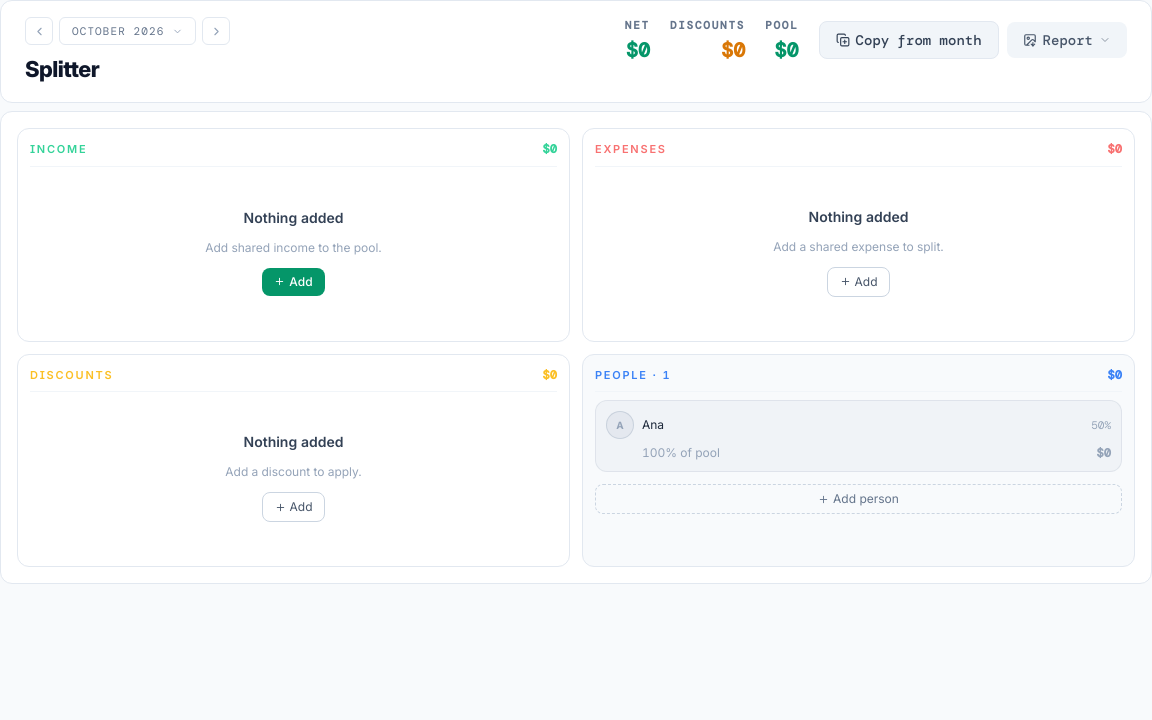
Test case: Splitter month copy › previews a copy from the previous month into the viewed month
Click the button "Copy from month".
click(909, 40)  # box [819,21,999,59]
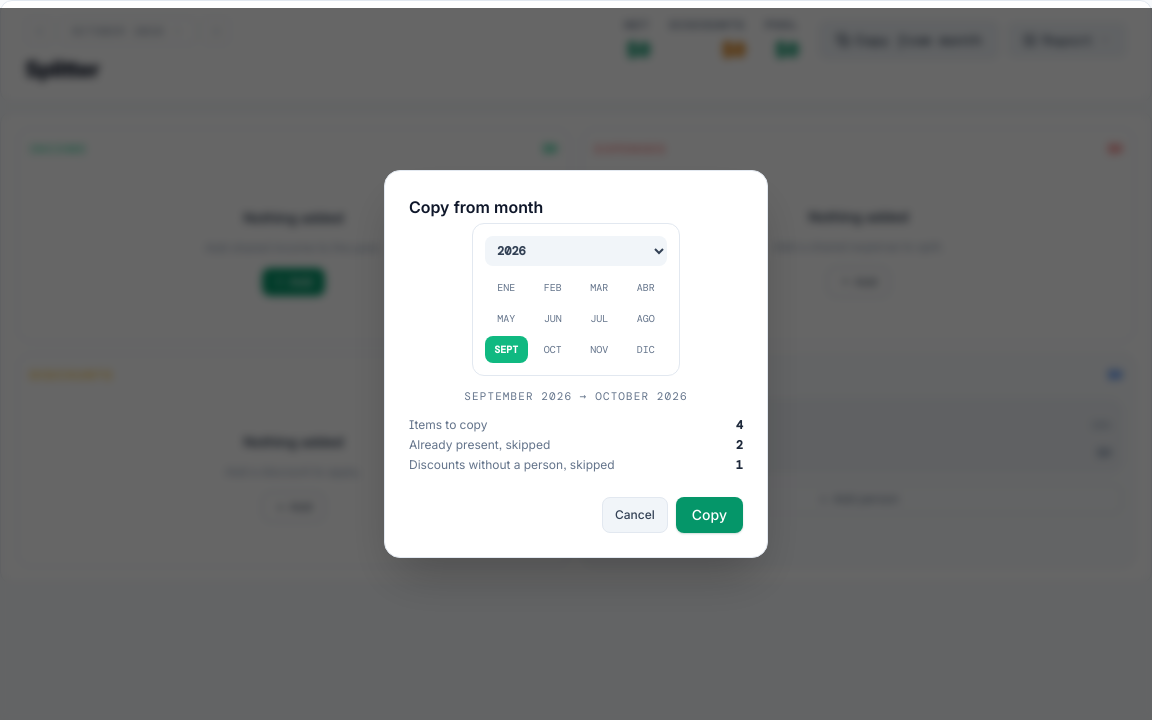
Result: the text "Items to copy" is shown at [409,417,488,433]
Result: the text "4" is shown at [736,417,743,433]
Result: the text "2" is shown at [736,437,743,453]
